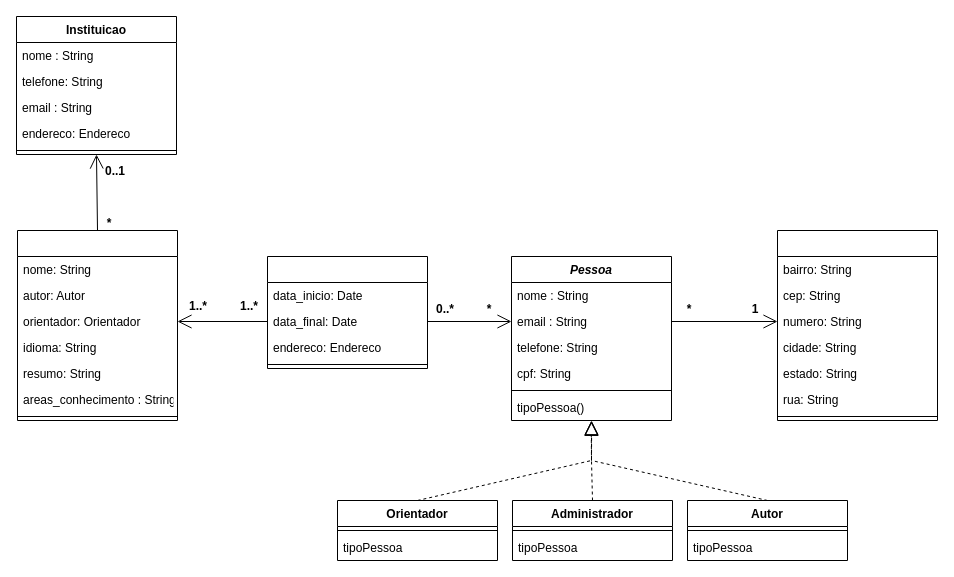
Some shapes in this 954 by 577 pixel diagram are drawn without their labels. Each missing label, with the box of its shape:
Artigos: (16, 230, 178, 420)
Endereco: (776, 230, 938, 420)
Evento: (266, 256, 428, 368)
